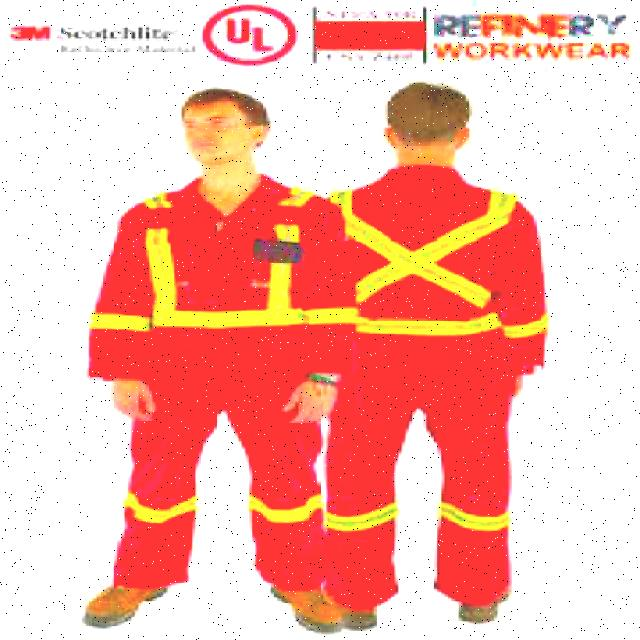Mask: (94, 194, 337, 570), (332, 188, 562, 574)
